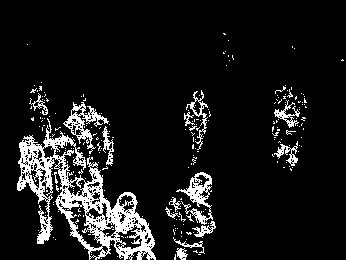person: (19, 139, 54, 246), (170, 172, 212, 258), (108, 192, 156, 259), (84, 181, 111, 257), (185, 89, 209, 165), (61, 179, 87, 242), (289, 95, 303, 170), (275, 87, 286, 160)
